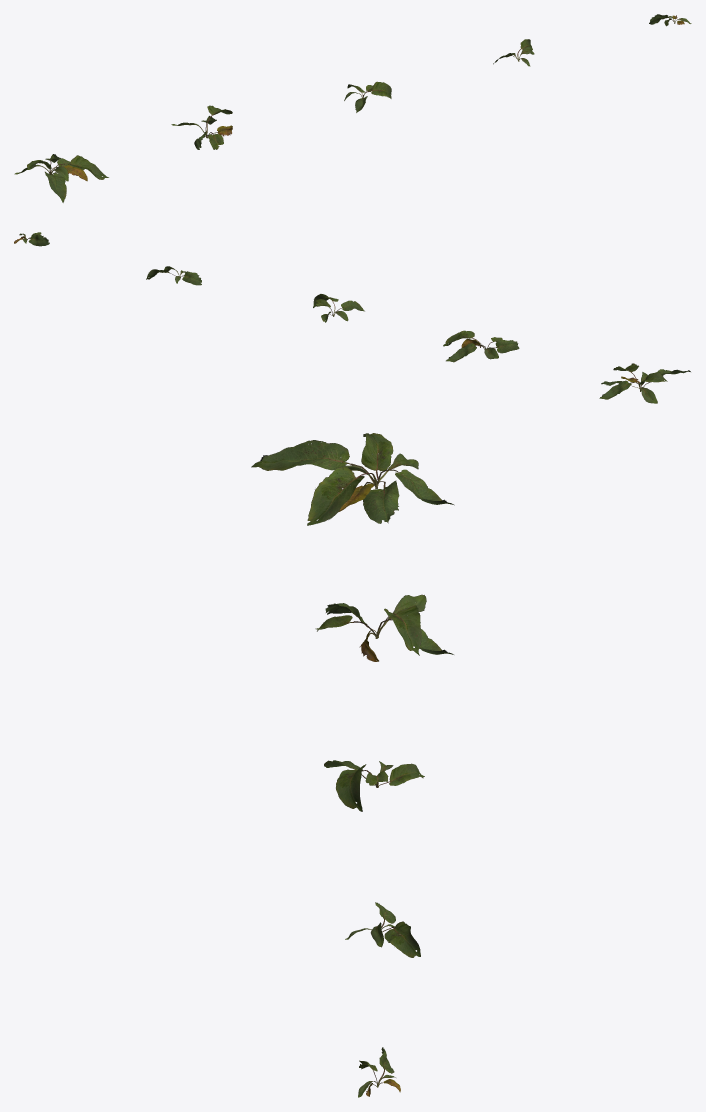
Rendered from weeds.glb.
The picture shows the model from 3 angles, top to bottom: view 1: azimuth 30°, elevation 25°; view 2: azimuth 150°, elevation 25°; view 3: azimuth 270°, elevation 25°; orthographic projection. The views are drawn at different scales.
Visible parts, largest first — view 1: weed_plant_02_a_LOD0, weed_plant_02_b_LOD0, weed_plant_02_c_LOD0, weed_plant_02_d_LOD0; view 2: weed_plant_02_a_LOD0, weed_plant_02_b_LOD0, weed_plant_02_c_LOD0, weed_plant_02_d_LOD0, weed_plant_02_e_LOD0; view 3: weed_plant_02_a_LOD0, weed_plant_02_b_LOD0, weed_plant_02_c_LOD0, weed_plant_02_d_LOD0.
Part boxes in pixels (left/top/right/bottom): weed_plant_02_a_LOD0: left=14, top=154, right=108, bottom=202; weed_plant_02_b_LOD0: left=171, top=105, right=232, bottom=149; weed_plant_02_c_LOD0: left=344, top=81, right=391, bottom=112; weed_plant_02_d_LOD0: left=493, top=39, right=534, bottom=66; weed_plant_02_a_LOD0: left=599, top=363, right=690, bottom=403; weed_plant_02_b_LOD0: left=443, top=330, right=519, bottom=362; weed_plant_02_c_LOD0: left=313, top=294, right=364, bottom=322; weed_plant_02_d_LOD0: left=146, top=266, right=201, bottom=285; weed_plant_02_e_LOD0: left=14, top=232, right=49, bottom=246; weed_plant_02_a_LOD0: left=251, top=433, right=454, bottom=525; weed_plant_02_b_LOD0: left=315, top=594, right=453, bottom=661; weed_plant_02_c_LOD0: left=324, top=760, right=424, bottom=811; weed_plant_02_d_LOD0: left=345, top=902, right=420, bottom=957.
Bounding box in the file's own units: 2.13 × 0.0751 × 0.2909.
1 material, 1 textured.
